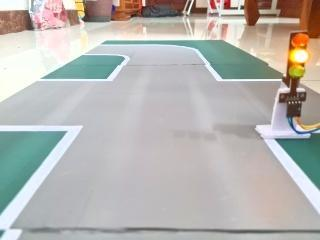yellow: (270, 20, 320, 89)
